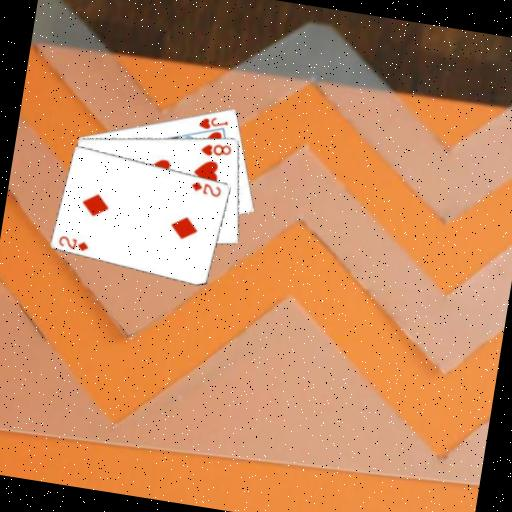2D: (187, 177, 224, 199), (55, 231, 91, 253)
8H: (197, 137, 234, 160)
JH: (194, 111, 230, 134)
